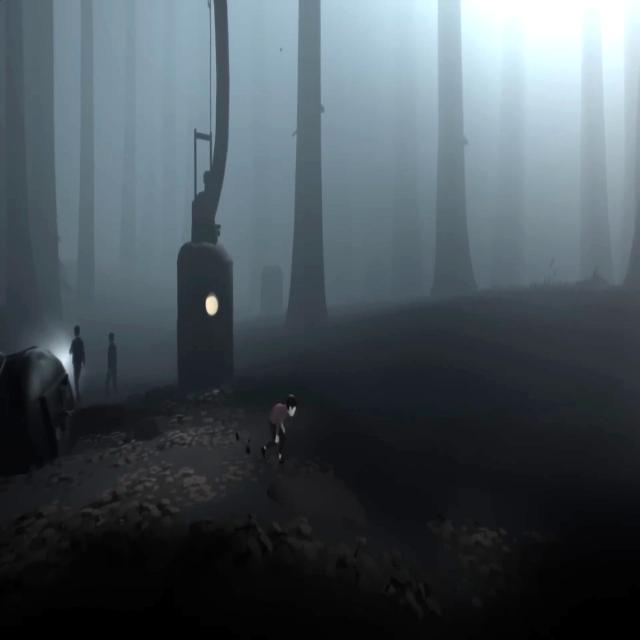boy: (261, 394, 297, 464)
human: (69, 325, 85, 408), (105, 332, 117, 404)
